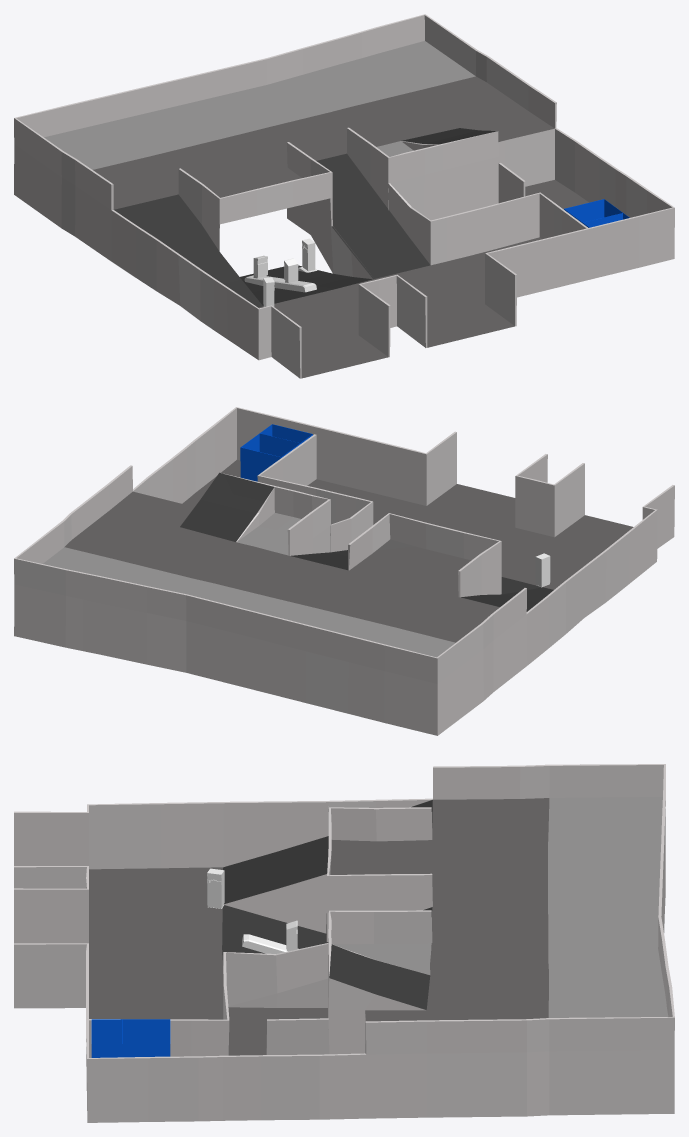
File: P_CalleReal84_2.glb
3 views of the same model, one above another, from view 1: azimuth 30°, elevation 25°; view 2: azimuth 150°, elevation 25°; view 3: azimuth 270°, elevation 25° (orthographic). The views are drawn at different scales.
Visible parts, largest first — view 1: NIvel 0 y 1, WC, base E.Ab; view 2: NIvel 0 y 1, WC, Ticket E.Ab; view 3: NIvel 0 y 1, WC, Ticket E.Ab, base E.Ab.
Boxes of the visible parts, x1,y1,x2,y2 form: NIvel 0 y 1: [14, 14, 674, 378]; WC: [564, 199, 629, 227]; base E.Ab: [244, 275, 316, 292]; NIvel 0 y 1: [14, 407, 674, 735]; WC: [240, 424, 312, 481]; Ticket E.Ab: [535, 553, 550, 587]; NIvel 0 y 1: [14, 764, 674, 1122]; WC: [91, 1019, 170, 1057]; Ticket E.Ab: [207, 868, 224, 908]; base E.Ab: [242, 934, 298, 953].
Size of the model in its own units: 30.8 by 8.27 by 32.72.
8 materials, 2 textured.
